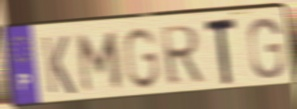G: (121, 25, 162, 92), (246, 16, 286, 81)
K: (40, 34, 78, 97)
M: (76, 30, 125, 95)
R: (158, 23, 206, 89)
T: (204, 14, 239, 88)
